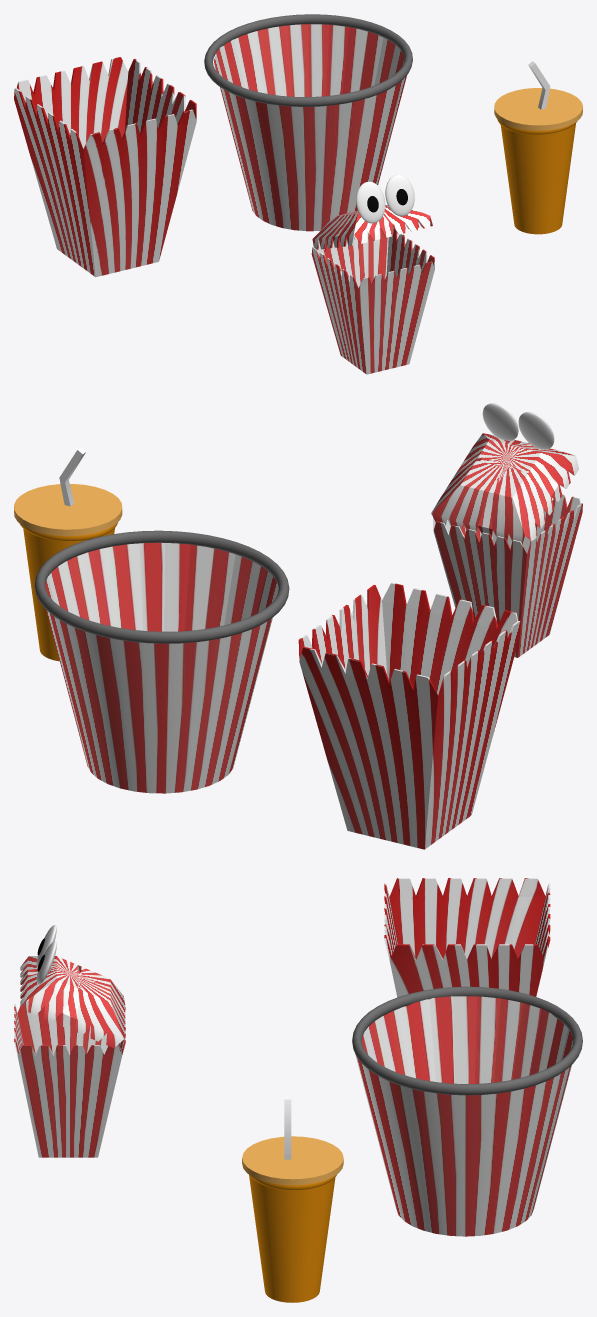
File: Cubo Palomitas 1.fbx
3 renders of one model, top to bottom at view 1: azimuth 30°, elevation 25°; view 2: azimuth 150°, elevation 25°; view 3: azimuth 270°, elevation 25°, orthographic. The views are drawn at different scales.
Parts seen in each view (by area): view 1: Cylinder001, Box002, Box041, Torus013; view 2: Cylinder001, Box002, Box041, Torus013; view 3: Cylinder001, Box041, Box002, Torus013.
Boxes of the visible parts, left/top/right/bottom form: Cylinder001: left=204, top=14, right=412, bottom=231; Box002: left=14, top=57, right=196, bottom=277; Box041: left=311, top=174, right=434, bottom=374; Torus013: left=494, top=61, right=582, bottom=234; Cylinder001: left=34, top=530, right=289, bottom=793; Box002: left=298, top=582, right=520, bottom=849; Box041: left=431, top=403, right=582, bottom=657; Torus013: left=14, top=447, right=122, bottom=661; Cylinder001: left=352, top=986, right=582, bottom=1236; Box041: left=14, top=925, right=125, bottom=1157; Box002: left=384, top=878, right=550, bottom=997; Torus013: left=242, top=1099, right=343, bottom=1302.
Size of the model in its own units: 22.24 by 8.66 by 21.1.
6 materials, 1 textured.
